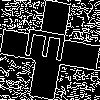E: (25, 25, 75, 66)
